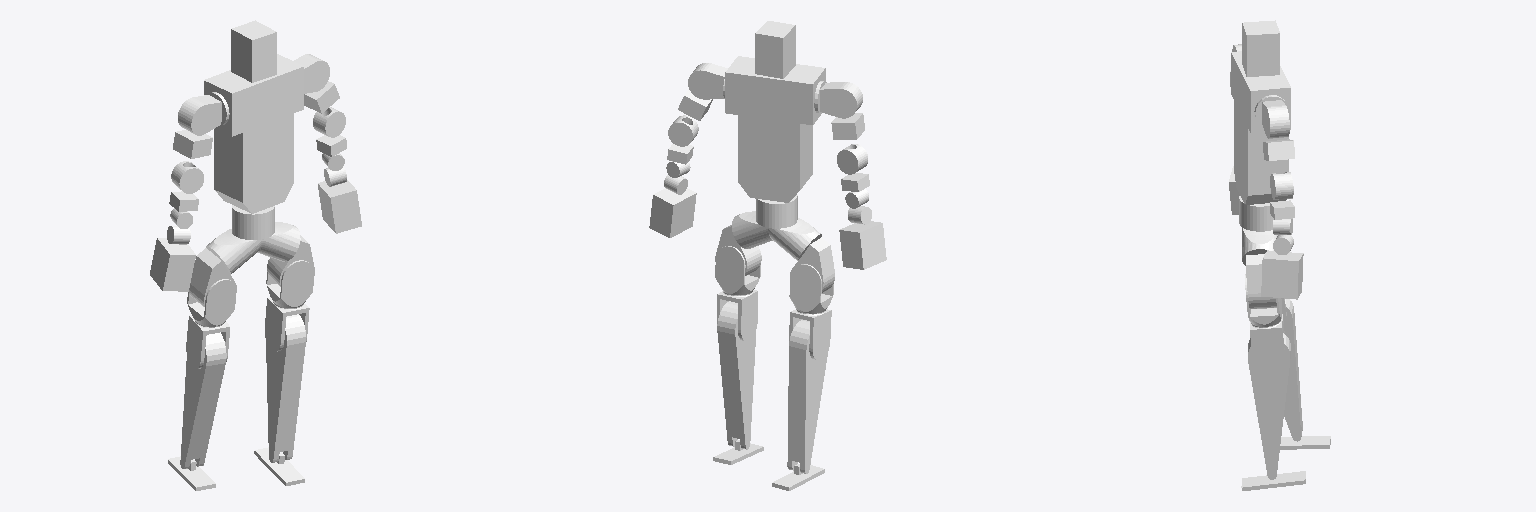
--- Render facts (derived) ---
3 views of the same robot in one strip: view 1: azimuth 30°, elevation 25°; view 2: azimuth 150°, elevation 25°; view 3: azimuth 270°, elevation 25° (orthographic).
Robot: simstl装配另存 — 31 links, 30 joints (26 continuous, 4 fixed); root link pelvis_link; default pose: every joint at zero.
Visible links, largest first — view 1: torso_Link, left_knee_Link, right_knee_Link, head_Link, pelvis_link, right_wrist_pitch_link, left_wrist_pitch_link, left_hip_roll_link, right_hip_roll_link, right_shoulder_pitch_Link, right_hip_pitch_link, waist_yaw_link (+10 smaller); view 2: torso_Link, right_knee_Link, left_knee_Link, pelvis_link, head_Link, right_wrist_pitch_link, left_wrist_pitch_link, right_hip_roll_link, left_hip_roll_link, right_shoulder_pitch_Link, right_hip_yaw_Link, left_shoulder_pitch_link (+9 smaller); view 3: torso_Link, left_knee_Link, head_Link, left_wrist_pitch_link, right_knee_Link, left_hip_yaw_link, left_hip_pitch_link, left_shoulder_pitch_link, waist_yaw_link, left_ankle_roll_link, pelvis_link, left_hip_roll_link (+3 smaller).
Boxes of the visible links, x1,y1,x2,y2 form: torso_Link: (204,54,303,213); left_knee_Link: (266,314,305,462); right_knee_Link: (180,332,226,468); head_Link: (231,20,276,82); pelvis_link: (206,222,300,274); right_wrist_pitch_link: (150,238,195,291); left_wrist_pitch_link: (318,180,361,233); left_hip_roll_link: (266,260,313,308); right_hip_roll_link: (187,279,236,327); right_shoulder_pitch_Link: (178,95,221,135); right_hip_pitch_link: (189,248,236,306); waist_yaw_link: (232,205,274,239); torso_Link: (723,56,826,202); right_knee_Link: (787,320,828,473); left_knee_Link: (717,301,755,449); pelvis_link: (732,211,821,260); head_Link: (755,21,795,78); right_wrist_pitch_link: (839,221,886,269); left_wrist_pitch_link: (649,188,696,237); right_hip_roll_link: (789,264,833,314); left_hip_roll_link: (715,246,760,295); right_shoulder_pitch_Link: (820,82,862,118); right_hip_yaw_Link: (789,309,831,360); left_shoulder_pitch_link: (688,63,727,99); torso_Link: (1231,51,1290,204); left_knee_Link: (1248,333,1290,479); head_Link: (1242,20,1279,76); left_wrist_pitch_link: (1261,250,1303,299); right_knee_Link: (1284,299,1302,441); left_hip_yaw_link: (1250,314,1284,372); left_hip_pitch_link: (1246,254,1276,308); left_shoulder_pitch_link: (1262,100,1289,138); waist_yaw_link: (1239,196,1273,231); left_ankle_roll_link: (1241,471,1305,490); pelvis_link: (1242,228,1277,265); left_hip_roll_link: (1245,274,1281,327).
Size in the robot's own frame: 0.798 by 0.3339 by 1.59 metres.
31 mesh visuals loaded from 31 distinct referenced files (31 binary STL).

robot.urdf — simstl装配另存:
<?xml version="1.0" encoding="utf-8"?>
<!-- This URDF was automatically created by SolidWorks to URDF Exporter! Originally created by Stephen Brawner ([email redacted]) 
     Commit Version: 1.6.0-4-g7f85cfe  Build Version: 1.6.7995.38578
     For more information, please see http://wiki.ros.org/sw_urdf_exporter -->
<robot
  name="simstl装配另存">
  <link
    name="pelvis_link">
    <inertial>
      <origin
        xyz="-3.13217732446242E-17 -7.0033346998907E-17 -0.0475407842849238"
        rpy="0 0 0" />
      <mass
        value="2.59612258544044" />
      <inertia
        ixx="0.00438862597142726"
        ixy="6.02047322668908E-08"
        ixz="1.42792133472184E-16"
        iyy="0.0187233240732958"
        iyz="2.87104161009405E-16"
        izz="0.0192780986166987" />
    </inertial>
    <visual>
      <origin
        xyz="0 0 0"
        rpy="0 0 0" />
      <geometry>
        <mesh
          filename="package://simstl装配另存/meshes/pelvis_link.STL" />
      </geometry>
      <material
        name="">
        <color
          rgba="1 1 1 1" />
      </material>
    </visual>
    <collision>
      <origin
        xyz="0 0 0"
        rpy="0 0 0" />
      <geometry>
        <mesh
          filename="package://simstl装配另存/meshes/pelvis_link.STL" />
      </geometry>
    </collision>
  </link>
  <link
    name="left_hip_pitch_link">
    <inertial>
      <origin
        xyz="-0.0155421053851232 -0.0591025316841065 -2.87096735274162E-16"
        rpy="0 0 0" />
      <mass
        value="1.48627427894323" />
      <inertia
        ixx="0.00409740084322351"
        ixy="-0.00028512426839898"
        ixz="9.48676900924816E-20"
        iyy="0.00234685691462312"
        iyz="3.93023287525995E-19"
        izz="0.00443778748127328" />
    </inertial>
    <visual>
      <origin
        xyz="0 0 0"
        rpy="0 0 0" />
      <geometry>
        <mesh
          filename="package://simstl装配另存/meshes/left_hip_pitch_link.STL" />
      </geometry>
      <material
        name="">
        <color
          rgba="1 1 1 1" />
      </material>
    </visual>
    <collision>
      <origin
        xyz="0 0 0"
        rpy="0 0 0" />
      <geometry>
        <mesh
          filename="package://simstl装配另存/meshes/left_hip_pitch_link.STL" />
      </geometry>
    </collision>
  </link>
  <joint
    name="0_left_hip_pitch_joint"
    type="continuous">
    <origin
      xyz="0.161396413151412 0 -0.0931822625792073"
      rpy="1.66022681549075 0.00230876585102084 -0.0515867968423578" />
    <parent
      link="pelvis_link" />
    <child
      link="left_hip_pitch_link" />
    <axis
      xyz="0.86602540378444 -0.499999999999997 0" />
  </joint>
  <link
    name="left_hip_roll_link">
    <inertial>
      <origin
        xyz="-2.34562343687239E-07 -0.0685868098115105 -1.34414325419357E-06"
        rpy="0 0 0" />
      <mass
        value="0.657908229146672" />
      <inertia
        ixx="0.00191614855769591"
        ixy="7.84961952204997E-09"
        ixz="-4.73133030434156E-09"
        iyy="0.00141956339015436"
        iyz="-2.11513213226652E-09"
        izz="0.00172254146453579" />
    </inertial>
    <visual>
      <origin
        xyz="0 0 0"
        rpy="0 0 0" />
      <geometry>
        <mesh
          filename="package://simstl装配另存/meshes/left_hip_roll_link.STL" />
      </geometry>
      <material
        name="">
        <color
          rgba="1 1 1 1" />
      </material>
    </visual>
    <collision>
      <origin
        xyz="0 0 0"
        rpy="0 0 0" />
      <geometry>
        <mesh
          filename="package://simstl装配另存/meshes/left_hip_roll_link.STL" />
      </geometry>
    </collision>
  </link>
  <joint
    name="0_left_hip_roll_joint"
    type="continuous">
    <origin
      xyz="-0.0187966701642662 -0.0791477374207923 0"
      rpy="0 0 -0.0314457539189733" />
    <parent
      link="left_hip_pitch_link" />
    <child
      link="left_hip_roll_link" />
    <axis
      xyz="0 0 1" />
  </joint>
  <link
    name="left_hip_yaw_link">
    <inertial>
      <origin
        xyz="-1.31838984174237E-15 -0.075044352149648 5.27355936696949E-16"
        rpy="0 0 0" />
      <mass
        value="0.558150874810084" />
      <inertia
        ixx="0.00212246981460302"
        ixy="5.55653613398821E-19"
        ixz="1.66018457661843E-19"
        iyy="0.00126395439228814"
        iyz="-3.2991933295555E-19"
        izz="0.00182294282321998" />
    </inertial>
    <visual>
      <origin
        xyz="0 0 0"
        rpy="0 0 0" />
      <geometry>
        <mesh
          filename="package://simstl装配另存/meshes/left_hip_yaw_link.STL" />
      </geometry>
      <material
        name="">
        <color
          rgba="1 1 1 1" />
      </material>
    </visual>
    <collision>
      <origin
        xyz="0 0 0"
        rpy="0 0 0" />
      <geometry>
        <mesh
          filename="package://simstl装配另存/meshes/left_hip_yaw_link.STL" />
      </geometry>
    </collision>
  </link>
  <joint
    name="0_left_hip_yaw_joint"
    type="continuous">
    <origin
      xyz="0 -0.102447512227952 0"
      rpy="0 -1.54131363589377 0" />
    <parent
      link="left_hip_roll_link" />
    <child
      link="left_hip_yaw_link" />
    <axis
      xyz="0 1 0" />
  </joint>
  <link
    name="left_knee_Link">
    <inertial>
      <origin
        xyz="-2.57432963834958E-15 -0.134657000959037 -4.44089209850063E-16"
        rpy="0 0 0" />
      <mass
        value="3.1244862763748" />
      <inertia
        ixx="0.0534639775774041"
        ixy="-1.51212321743838E-16"
        ixz="5.42101086242752E-18"
        iyy="0.00419786240262267"
        iyz="1.82581128154217E-17"
        izz="0.0550865051574955" />
    </inertial>
    <visual>
      <origin
        xyz="0 0 0"
        rpy="0 0 0" />
      <geometry>
        <mesh
          filename="package://simstl装配另存/meshes/left_knee_Link.STL" />
      </geometry>
      <material
        name="">
        <color
          rgba="1 1 1 1" />
      </material>
    </visual>
    <collision>
      <origin
        xyz="0 0 0"
        rpy="0 0 0" />
      <geometry>
        <mesh
          filename="package://simstl装配另存/meshes/left_knee_Link.STL" />
      </geometry>
    </collision>
  </link>
  <joint
    name="0_left_knee_joint"
    type="continuous">
    <origin
      xyz="0 -0.126252487772048 0"
      rpy="-3.14159265358979 0 -3.07386322886552" />
    <parent
      link="left_hip_yaw_link" />
    <child
      link="left_knee_Link" />
    <axis
      xyz="0 0 1" />
  </joint>
  <link
    name="left_ankle_pitch_Link">
    <inertial>
      <origin
        xyz="0 -0.00749999999999995 3.60822483003176E-16"
        rpy="0 0 0" />
      <mass
        value="0.012" />
      <inertia
        ixx="1.3E-06"
        ixy="-1.10511329837084E-21"
        ixz="1.27385814333166E-22"
        iyy="8E-07"
        iyz="2.06795153138257E-25"
        izz="1.3E-06" />
    </inertial>
    <visual>
      <origin
        xyz="0 0 0"
        rpy="0 0 0" />
      <geometry>
        <mesh
          filename="package://simstl装配另存/meshes/left_ankle_pitch_Link.STL" />
      </geometry>
      <material
        name="">
        <color
          rgba="1 1 1 1" />
      </material>
    </visual>
    <collision>
      <origin
        xyz="0 0 0"
        rpy="0 0 0" />
      <geometry>
        <mesh
          filename="package://simstl装配另存/meshes/left_ankle_pitch_Link.STL" />
      </geometry>
    </collision>
  </link>
  <joint
    name="0_left_ankle_pitch_joint"
    type="continuous">
    <origin
      xyz="0 -0.4335 0"
      rpy="-3.14159265358979 0 -3.02669614082178" />
    <parent
      link="left_knee_Link" />
    <child
      link="left_ankle_pitch_Link" />
    <axis
      xyz="0 0 1" />
  </joint>
  <link
    name="left_ankle_roll_link">
    <inertial>
      <origin
        xyz="-6.66133814775094E-16 2.08166817117217E-16 0.0219999999999999"
        rpy="0 0 0" />
      <mass
        value="0.2058" />
      <inertia
        ixx="0.000759676400000001"
        ixy="-3.70259277068536E-19"
        ixz="-1.27478458561772E-19"
        iyy="8.73964000000002E-05"
        iyz="2.15231071897318E-18"
        izz="0.000840350000000001" />
    </inertial>
    <visual>
      <origin
        xyz="0 0 0"
        rpy="0 0 0" />
      <geometry>
        <mesh
          filename="package://simstl装配另存/meshes/left_ankle_roll_link.STL" />
      </geometry>
      <material
        name="">
        <color
          rgba="1 1 1 1" />
      </material>
    </visual>
    <collision>
      <origin
        xyz="0 0 0"
        rpy="0 0 0" />
      <geometry>
        <mesh
          filename="package://simstl装配另存/meshes/left_ankle_roll_link.STL" />
      </geometry>
    </collision>
  </link>
  <joint
    name="0_left_ankle_roll_joint"
    type="continuous">
    <origin
      xyz="0 -0.0150000000000001 0"
      rpy="3.14159265358979 1.55763311900639 1.57079632679489" />
    <parent
      link="left_ankle_pitch_Link" />
    <child
      link="left_ankle_roll_link" />
    <axis
      xyz="0 1 0" />
  </joint>
  <link
    name="right_hip_pitch_link">
    <inertial>
      <origin
        xyz="0.0714846487295383 -0.109347451598905 7.80625564189563E-18"
        rpy="0 0 0" />
      <mass
        value="1.48627427894323" />
      <inertia
        ixx="0.00409740084322351"
        ixy="-0.00028512426839898"
        ixz="1.89735380184963E-19"
        iyy="0.00234685691462313"
        iyz="9.75781955236954E-19"
        izz="0.00443778748127328" />
    </inertial>
    <visual>
      <origin
        xyz="0 0 0"
        rpy="0 0 0" />
      <geometry>
        <mesh
          filename="package://simstl装配另存/meshes/right_hip_pitch_link.STL" />
      </geometry>
      <material
        name="">
        <color
          rgba="1 1 1 1" />
      </material>
    </visual>
    <collision>
      <origin
        xyz="0 0 0"
        rpy="0 0 0" />
      <geometry>
        <mesh
          filename="package://simstl装配另存/meshes/right_hip_pitch_link.STL" />
      </geometry>
    </collision>
  </link>
  <joint
    name="0_right_hip_pitch_joint"
    type="continuous">
    <origin
      xyz="-0.0743696590367509 0 -0.0429373426644086"
      rpy="1.45122683266207 0.00412712801290447 -3.07266899311436" />
    <parent
      link="pelvis_link" />
    <child
      link="right_hip_pitch_link" />
    <axis
      xyz="0.866025403784439 -0.5 0" />
  </joint>
  <link
    name="right_hip_roll_link">
    <inertial>
      <origin
        xyz="-2.24057862874272E-07 -0.0685868133192409 -1.31409841380714E-06"
        rpy="0 0 0" />
      <mass
        value="0.657907460062175" />
      <inertia
        ixx="0.00191614714457662"
        ixy="7.48729796247709E-09"
        ixz="-4.44906741748361E-09"
        iyy="0.00141956237301229"
        iyz="-2.85523736296182E-09"
        izz="0.00172254042503048" />
    </inertial>
    <visual>
      <origin
        xyz="0 0 0"
        rpy="0 0 0" />
      <geometry>
        <mesh
          filename="package://simstl装配另存/meshes/right_hip_roll_link.STL" />
      </geometry>
      <material
        name="">
        <color
          rgba="1 1 1 1" />
      </material>
    </visual>
    <collision>
      <origin
        xyz="0 0 0"
        rpy="0 0 0" />
      <geometry>
        <mesh
          filename="package://simstl装配另存/meshes/right_hip_roll_link.STL" />
      </geometry>
    </collision>
  </link>
  <joint
    name="0_right_hip_roll_joint"
    type="continuous">
    <origin
      xyz="0.0682300839503951 -0.129392657335591 0"
      rpy="-3.14159265358979 0 -3.12592071196651" />
    <parent
      link="right_hip_pitch_link" />
    <child
      link="right_hip_roll_link" />
    <axis
      xyz="0 0 1" />
  </joint>
  <link
    name="right_hip_yaw_Link">
    <inertial>
      <origin
        xyz="-5.41233724504764E-16 -0.0776217768635346 -1.60982338570648E-15"
        rpy="0 0 0" />
      <mass
        value="0.558150874810084" />
      <inertia
        ixx="0.00212246981460302"
        ixy="6.09863722023096E-19"
        ixz="6.50521303491303E-19"
        iyy="0.00126395439228814"
        iyz="8.63126573252132E-19"
        izz="0.00182294282321998" />
    </inertial>
    <visual>
      <origin
        xyz="0 0 0"
        rpy="0 0 0" />
      <geometry>
        <mesh
          filename="package://simstl装配另存/meshes/right_hip_yaw_Link.STL" />
      </geometry>
      <material
        name="">
        <color
          rgba="1 1 1 1" />
      </material>
    </visual>
    <collision>
      <origin
        xyz="0 0 0"
        rpy="0 0 0" />
      <geometry>
        <mesh
          filename="package://simstl装配另存/meshes/right_hip_yaw_Link.STL" />
      </geometry>
    </collision>
  </link>
  <joint
    name="0_right_hip_yaw_joint"
    type="continuous">
    <origin
      xyz="0 -0.0998700875140655 0"
      rpy="3.14159265358979 -1.42555167118887 -3.14159265358979" />
    <parent
      link="right_hip_roll_link" />
    <child
      link="right_hip_yaw_Link" />
    <axis
      xyz="0 1 0" />
  </joint>
  <link
    name="right_knee_Link">
    <inertial>
      <origin
        xyz="4.97546413895378E-06 -0.134635885197478 2.22044604925031E-15"
        rpy="0 0 0" />
      <mass
        value="3.1242416304843" />
      <inertia
        ixx="0.0534461721077923"
        ixy="4.25331801489698E-06"
        ixz="-8.67361737988404E-19"
        iyy="0.00419781224890989"
        iyz="-7.61042162449044E-17"
        izz="0.0550686862310545" />
    </inertial>
    <visual>
      <origin
        xyz="0 0 0"
        rpy="0 0 0" />
      <geometry>
        <mesh
          filename="package://simstl装配另存/meshes/right_knee_Link.STL" />
      </geometry>
      <material
        name="">
        <color
          rgba="1 1 1 1" />
      </material>
    </visual>
    <collision>
      <origin
        xyz="0 0 0"
        rpy="0 0 0" />
      <geometry>
        <mesh
          filename="package://simstl装配另存/meshes/right_knee_Link.STL" />
      </geometry>
    </collision>
  </link>
  <joint
    name="0_right_knee_joint"
    type="continuous">
    <origin
      xyz="0 -0.128829912485935 0"
      rpy="3.14159265358979 0 3.0669385411108" />
    <parent
      link="right_hip_yaw_Link" />
    <child
      link="right_knee_Link" />
    <axis
      xyz="0 0 1" />
  </joint>
  <link
    name="right_ankle_pitch_Link">
    <inertial>
      <origin
        xyz="4.04382777263734E-12 -0.00750000000054107 -1.66533453693773E-16"
        rpy="0 0 0" />
      <mass
        value="0.012" />
      <inertia
        ixx="1.3E-06"
        ixy="-9.92616735063633E-23"
        ixz="-1.58818677610181E-22"
        iyy="8.00000000000001E-07"
        iyz="-4.13383511123376E-22"
        izz="1.3E-06" />
    </inertial>
    <visual>
      <origin
        xyz="0 0 0"
        rpy="0 0 0" />
      <geometry>
        <mesh
          filename="package://simstl装配另存/meshes/right_ankle_pitch_Link.STL" />
      </geometry>
      <material
        name="">
        <color
          rgba="1 1 1 1" />
      </material>
    </visual>
    <collision>
      <origin
        xyz="0 0 0"
        rpy="0 0 0" />
      <geometry>
        <mesh
          filename="package://simstl装配另存/meshes/right_ankle_pitch_Link.STL" />
      </geometry>
    </collision>
  </link>
  <joint
    name="0_right_ankle_pitch_joint"
    type="continuous">
    <origin
      xyz="0 -0.433500000000003 0"
      rpy="3.14159265358979 0 3.00786762036151" />
    <parent
      link="right_knee_Link" />
    <child
      link="right_ankle_pitch_Link" />
    <axis
      xyz="0 0 1" />
  </joint>
  <link
    name="right_ankle_roll_Link">
    <inertial>
      <origin
        xyz="-1.13797860024079E-14 0.10309531204532 0.0220000000005403"
        rpy="0 0 0" />
      <mass
        value="0.2058" />
      <inertia
        ixx="0.000759676399999998"
        ixy="2.22346148654254E-19"
        ixz="1.30231315640349E-19"
        iyy="8.73963999999998E-05"
        iyz="-1.20024568625934E-18"
        izz="0.000840349999999998" />
    </inertial>
    <visual>
      <origin
        xyz="0 0 0"
        rpy="0 0 0" />
      <geometry>
        <mesh
          filename="package://simstl装配另存/meshes/right_ankle_roll_Link.STL" />
      </geometry>
      <material
        name="">
        <color
          rgba="1 1 1 1" />
      </material>
    </visual>
    <collision>
      <origin
        xyz="0 0 0"
        rpy="0 0 0" />
      <geometry>
        <mesh
          filename="package://simstl装配另存/meshes/right_ankle_roll_Link.STL" />
      </geometry>
    </collision>
  </link>
  <joint
    name="0_right_ankle_roll_joint"
    type="continuous">
    <origin
      xyz="-0.103095312041276 -0.0150000000000013 0"
      rpy="3.14159265358979 1.54968400377694 1.5707963267949" />
    <parent
      link="right_ankle_pitch_Link" />
    <child
      link="right_ankle_roll_Link" />
    <axis
      xyz="0 1 0" />
  </joint>
  <link
    name="waist_yaw_link">
    <inertial>
      <origin
        xyz="1.85718555524981E-18 -9.0439728048059E-19 0.045"
        rpy="0 0 0" />
      <mass
        value="1.34614103613669" />
      <inertia
        ixx="0.00251088956765396"
        ixy="-1.0842021724855E-19"
        ixz="7.35364985719662E-20"
        iyy="0.00251088956765396"
        iyz="3.89168615009538E-23"
        izz="0.00320448873652339" />
    </inertial>
    <visual>
      <origin
        xyz="0 0 0"
        rpy="0 0 0" />
      <geometry>
        <mesh
          filename="package://simstl装配另存/meshes/waist_yaw_link.STL" />
      </geometry>
      <material
        name="">
        <color
          rgba="1 1 1 1" />
      </material>
    </visual>
    <collision>
      <origin
        xyz="0 0 0"
        rpy="0 0 0" />
      <geometry>
        <mesh
          filename="package://simstl装配另存/meshes/waist_yaw_link.STL" />
      </geometry>
    </collision>
  </link>
  <joint
    name="waist_yaw_joint"
    type="continuous">
    <origin
      xyz="0 0 0"
      rpy="0 0 2.61746474058066" />
    <parent
      link="pelvis_link" />
    <child
      link="waist_yaw_link" />
    <axis
      xyz="0 0 1" />
  </joint>
  <link
    name="waist_roll_Link">
    <inertial>
      <origin
        xyz="-9.14816347633244E-18 0.00600000000000001 -2.02489287931573E-17"
        rpy="0 0 0" />
      <mass
        value="0.00904778684233861" />
      <inertia
        ixx="4.90691639749498E-06"
        ixy="3.26265223399926E-55"
        ixz="3.27563522570999E-22"
        iyy="4.90691639749498E-06"
        iyz="-4.19629427726875E-39"
        izz="1.62860163162095E-07" />
    </inertial>
    <visual>
      <origin
        xyz="0 0 0"
        rpy="0 0 0" />
      <geometry>
        <mesh
          filename="package://simstl装配另存/meshes/waist_roll_Link.STL" />
      </geometry>
      <material
        name="">
        <color
          rgba="1 1 1 1" />
      </material>
    </visual>
    <collision>
      <origin
        xyz="0 0 0"
        rpy="0 0 0" />
      <geometry>
        <mesh
          filename="package://simstl装配另存/meshes/waist_roll_Link.STL" />
      </geometry>
    </collision>
  </link>
  <joint
    name="waist_roll_joint"
    type="continuous">
    <origin
      xyz="0 0 0.09"
      rpy="1.5707963267949 0 -2.40842710613758" />
    <parent
      link="waist_yaw_link" />
    <child
      link="waist_roll_Link" />
    <axis
      xyz="0 1 0" />
  </joint>
  <link
    name="torso_Link">
    <inertial>
      <origin
        xyz="0.13511217162071 0.254421872284227 0.00415780310911415"
        rpy="0 0 0" />
      <mass
        value="15.0305076014071" />
      <inertia
        ixx="0.336979759774154"
        ixy="3.11594778375947E-17"
        ixz="6.93889390390723E-18"
        iyy="0.110155579394109"
        iyz="-6.29406711770686E-17"
        izz="0.27280010211887" />
    </inertial>
    <visual>
      <origin
        xyz="0 0 0"
        rpy="0 0 0" />
      <geometry>
        <mesh
          filename="package://simstl装配另存/meshes/torso_Link.STL" />
      </geometry>
      <material
        name="">
        <color
          rgba="1 1 1 1" />
      </material>
    </visual>
    <collision>
      <origin
        xyz="0 0 0"
        rpy="0 0 0" />
      <geometry>
        <mesh
          filename="package://simstl装配另存/meshes/torso_Link.STL" />
      </geometry>
    </collision>
  </link>
  <joint
    name="torso_joint"
    type="continuous">
    <origin
      xyz="0 0.00600000000000001 0.133401762598207"
      rpy="-0.478571446934751 1.57079631189374 -0.47857144693475" />
    <parent
      link="waist_roll_Link" />
    <child
      link="torso_Link" />
    <axis
      xyz="1 0 0" />
  </joint>
  <link
    name="head_Link">
    <inertial>
      <origin
        xyz="-1.30104260698261E-17 1.60461921527855E-17 0.075"
        rpy="0 0 0" />
      <mass
        value="1.65" />
      <inertia
        ixx="0.0047575"
        ixy="-3.25260651745651E-19"
        ixz="3.21420930934541E-19"
        iyy="0.00446875"
        iyz="-1.43960118926078E-19"
        izz="0.00303875" />
    </inertial>
    <visual>
      <origin
        xyz="0 0 0"
        rpy="0 0 0" />
      <geometry>
        <mesh
          filename="package://simstl装配另存/meshes/head_Link.STL" />
      </geometry>
      <material
        name="">
        <color
          rgba="1 1 1 1" />
      </material>
    </visual>
    <collision>
      <origin
        xyz="0 0 0"
        rpy="0 0 0" />
      <geometry>
        <mesh
          filename="package://simstl装配另存/meshes/head_Link.STL" />
      </geometry>
    </collision>
  </link>
  <joint
    name="head_joint"
    type="continuous">
    <origin
      xyz="0.13511217162071 0.454221618593478 0.0041578031091142"
      rpy="1.57079632679489 -1.50925701327379 -3.14159265358978" />
    <parent
      link="torso_Link" />
    <child
      link="head_Link" />
    <axis
      xyz="0 0 1" />
  </joint>
  <link
    name="right_shoulder_pitch_Link">
    <inertial>
      <origin
        xyz="-0.0571953620554074 0 -6.93889390390723E-18"
        rpy="0 0 0" />
      <mass
        value="0.756178654371521" />
      <inertia
        ixx="0.000818946394217298"
        ixy="-3.04931861011548E-20"
        ixz="1.35525271560688E-20"
        iyy="0.00117485700579858"
        iyz="3.3881317890172E-20"
        izz="0.0014613275975626" />
    </inertial>
    <visual>
      <origin
        xyz="0 0 0"
        rpy="0 0 0" />
      <geometry>
        <mesh
          filename="package://simstl装配另存/meshes/right_shoulder_pitch_Link.STL" />
      </geometry>
      <material
        name="">
        <color
          rgba="1 1 1 1" />
      </material>
    </visual>
    <collision>
      <origin
        xyz="0 0 0"
        rpy="0 0 0" />
      <geometry>
        <mesh
          filename="package://simstl装配另存/meshes/right_shoulder_pitch_Link.STL" />
      </geometry>
    </collision>
  </link>
  <joint
    name="1_right_shoulder_pitch_joint"
    type="continuous">
    <origin
      xyz="0.13511217162071 0.378721618593478 -0.167740511837185"
      rpy="-1.34546852580314 -1.57079631189374 1.39402794418769" />
    <parent
      link="torso_Link" />
    <child
      link="right_shoulder_pitch_Link" />
    <axis
      xyz="1 0 0" />
  </joint>
  <link
    name="right_shoulder_roll_link">
    <inertial>
      <origin
        xyz="-5.55111512312578E-17 -0.0930000000000001 0.0601590944459596"
        rpy="0 0 0" />
      <mass
        value="0.44352" />
      <inertia
        ixx="0.000419274240000001"
        ixy="1.0545560193316E-19"
        ixz="-2.03287907341032E-20"
        iyy="0.000547008"
        iyz="3.55753837846806E-20"
        izz="0.000393845760000001" />
    </inertial>
    <visual>
      <origin
        xyz="0 0 0"
        rpy="0 0 0" />
      <geometry>
        <mesh
          filename="package://simstl装配另存/meshes/right_shoulder_roll_link.STL" />
      </geometry>
      <material
        name="">
        <color
          rgba="1 1 1 1" />
      </material>
    </visual>
    <collision>
      <origin
        xyz="0 0 0"
        rpy="0 0 0" />
      <geometry>
        <mesh
          filename="package://simstl装配另存/meshes/right_shoulder_roll_link.STL" />
      </geometry>
    </collision>
  </link>
  <joint
    name="1_right_shoulder_roll_joint"
    type="continuous">
    <origin
      xyz="-0.0714016850537004 0 -0.0601590944459594"
      rpy="0 0 -0.141037189240337" />
    <parent
      link="right_shoulder_pitch_Link" />
    <child
      link="right_shoulder_roll_link" />
    <axis
      xyz="0 0 1" />
  </joint>
  <link
    name="right_shoulder_yaw_link">
    <inertial>
      <origin
        xyz="4.85101792069287E-10 -0.0608138131568556 -4.3638629332321E-07"
        rpy="0 0 0" />
      <mass
        value="0.254258436547984" />
      <inertia
        ixx="0.000205073524747574"
        ixy="1.16012251376049E-10"
        ixz="2.90674320211986E-12"
        iyy="0.000260586055040214"
        iyz="6.98509429957568E-14"
        izz="0.000273860607436206" />
    </inertial>
    <visual>
      <origin
        xyz="0 0 0"
        rpy="0 0 0" />
      <geometry>
        <mesh
          filename="package://simstl装配另存/meshes/right_shoulder_yaw_link.STL" />
      </geometry>
      <material
        name="">
        <color
          rgba="1 1 1 1" />
      </material>
    </visual>
    <collision>
      <origin
        xyz="0 0 0"
        rpy="0 0 0" />
      <geometry>
        <mesh
          filename="package://simstl装配另存/meshes/right_shoulder_yaw_link.STL" />
      </geometry>
    </collision>
  </link>
  <joint
    name="1_right_shoulder_yaw_joint"
    type="fixed">
    <origin
      xyz="0 -0.149186185823977 0.0601590944459594"
      rpy="0 -0.283970830651577 0" />
    <parent
      link="right_shoulder_roll_link" />
    <child
      link="right_shoulder_yaw_link" />
    <axis
      xyz="0 1 0" />
  </joint>
  <link
    name="right_elbow_link">
    <inertial>
      <origin
        xyz="-5.55111512312578E-17 -0.0825 -6.93889390390723E-18"
        rpy="0 0 0" />
      <mass
        value="0.1836" />
      <inertia
        ixx="9.52271999999999E-05"
        ixy="7.53065229668276E-20"
        ixz="-4.2351647362715E-22"
        iyy="0.000140457825"
        iyz="1.56701095242046E-20"
        izz="9.4190625E-05" />
    </inertial>
    <visual>
      <origin
        xyz="0 0 0"
        rpy="0 0 0" />
      <geometry>
        <mesh
          filename="package://simstl装配另存/meshes/right_elbow_link.STL" />
      </geometry>
      <material
        name="">
        <color
          rgba="1 1 1 1" />
      </material>
    </visual>
    <collision>
      <origin
        xyz="0 0 0"
        rpy="0 0 0" />
      <geometry>
        <mesh
          filename="package://simstl装配另存/meshes/right_elbow_link.STL" />
      </geometry>
    </collision>
  </link>
  <joint
    name="1_right_elbow_joint"
    type="continuous">
    <origin
      xyz="0 -0.0608138141760233 0"
      rpy="0 0 0" />
    <parent
      link="right_shoulder_yaw_link" />
    <child
      link="right_elbow_link" />
    <axis
      xyz="0 0 1" />
  </joint>
  <link
    name="right_wrist_roll_link">
    <inertial>
      <origin
        xyz="0 -0.04049436594513 1.38777878078145E-17"
        rpy="0 0 0" />
      <mass
        value="0.145450242074064" />
      <inertia
        ixx="6.89161428227173E-05"
        ixy="-1.27054942088145E-21"
        ixz="-7.6232965252887E-21"
        iyy="6.89161428227173E-05"
        iyz="8.470329472543E-22"
        izz="5.90709795623292E-05" />
    </inertial>
    <visual>
      <origin
        xyz="0 0 0"
        rpy="0 0 0" />
      <geometry>
        <mesh
          filename="package://simstl装配另存/meshes/right_wrist_roll_link.STL" />
      </geometry>
      <material
        name="">
        <color
          rgba="1 1 1 1" />
      </material>
    </visual>
    <collision>
      <origin
        xyz="0 0 0"
        rpy="0 0 0" />
      <geometry>
        <mesh
          filename="package://simstl装配另存/meshes/right_wrist_roll_link.STL" />
      </geometry>
    </collision>
  </link>
  <joint
    name="right_wrist_roll_joint"
    type="continuous">
    <origin
      xyz="0 -0.09750563405487 0"
      rpy="0 -0.0890412963919442 0" />
    <parent
      link="right_elbow_link" />
    <child
      link="right_wrist_roll_link" />
    <axis
      xyz="0 1 0" />
  </joint>
  <link
    name="right_wrist_yaw_link">
    <inertial>
      <origin
        xyz="4.16333634234434E-17 -0.06 1.11022302462516E-16"
        rpy="0 0 0" />
      <mass
        value="0.161163703129156" />
      <inertia
        ixx="7.98969058262792E-05"
        ixy="0"
        ixz="1.6940658945086E-21"
        iyy="7.98969058262792E-05"
        iyz="-8.15269211732264E-21"
        izz="7.25236664081203E-05" />
    </inertial>
    <visual>
      <origin
        xyz="0 0 0"
        rpy="0 0 0" />
      <geometry>
        <mesh
          filename="package://simstl装配另存/meshes/right_wrist_yaw_link.STL" />
      </geometry>
      <material
        name="">
        <color
          rgba="1 1 1 1" />
      </material>
    </visual>
    <collision>
      <origin
        xyz="0 0 0"
        rpy="0 0 0" />
      <geometry>
        <mesh
          filename="package://simstl装配另存/meshes/right_wrist_yaw_link.STL" />
      </geometry>
    </collision>
  </link>
  <joint
    name="right_wrist_yaw_joint"
    type="fixed">
    <origin
      xyz="0 -0.04049436594513 0"
      rpy="-0.0238050261850699 -1.57079631189374 0" />
    <parent
      link="right_wrist_roll_link" />
    <child
      link="right_wrist_yaw_link" />
    <axis
      xyz="0 0 0" />
  </joint>
  <link
    name="right_wrist_pitch_link">
    <inertial>
      <origin
        xyz="0.0606743013125314 -0.105 -4.16333634234434E-17"
        rpy="0 0 0" />
      <mass
        value="1.404" />
      <inertia
        ixx="0.00366210000000001"
        ixy="7.11507675693612E-19"
        ixz="-4.06575814682064E-19"
        iyy="0.0026325"
        iyz="5.14996031930615E-19"
        izz="0.002925" />
    </inertial>
    <visual>
      <origin
        xyz="0 0 0"
        rpy="0 0 0" />
      <geometry>
        <mesh
          filename="package://simstl装配另存/meshes/right_wrist_pitch_link.STL" />
      </geometry>
      <material
        name="">
        <color
          rgba="1 1 1 1" />
      </material>
    </visual>
    <collision>
      <origin
        xyz="0 0 0"
        rpy="0 0 0" />
      <geometry>
        <mesh
          filename="package://simstl装配另存/meshes/right_wrist_pitch_link.STL" />
      </geometry>
    </collision>
  </link>
  <joint
    name="right_wrist_pitch_joint"
    type="continuous">
    <origin
      xyz="0 -0.06 0.0606743013125311"
      rpy="-0.46061271695283 1.57079630572147 -0.521246951491958" />
    <parent
      link="right_wrist_yaw_link" />
    <child
      link="right_wrist_pitch_link" />
    <axis
      xyz="1 0 0" />
  </joint>
  <link
    name="left_shoulder_pitch_link">
    <inertial>
      <origin
        xyz="-0.0571953620554074 1.11022302462516E-16 1.38777878078145E-17"
        rpy="0 0 0" />
      <mass
        value="0.756178654371521" />
      <inertia
        ixx="0.000818946394217297"
        ixy="2.08370105024558E-19"
        ixz="-1.35525271560688E-20"
        iyy="0.00117485700579858"
        iyz="1.62630325872826E-19"
        izz="0.0014613275975626" />
    </inertial>
    <visual>
      <origin
        xyz="0 0 0"
        rpy="0 0 0" />
      <geometry>
        <mesh
          filename="package://simstl装配另存/meshes/left_shoulder_pitch_link.STL" />
      </geometry>
      <material
        name="">
        <color
          rgba="1 1 1 1" />
      </material>
    </visual>
    <collision>
      <origin
        xyz="0 0 0"
        rpy="0 0 0" />
      <geometry>
        <mesh
          filename="package://simstl装配另存/meshes/left_shoulder_pitch_link.STL" />
      </geometry>
    </collision>
  </link>
  <joint
    name="1_left_shoulder_pitch_joint"
    type="continuous">
    <origin
      xyz="0.13511217162071 0.378721618593478 0.176056118055414"
      rpy="1.74546852580314 1.57079631189374 -1.39402794418769" />
    <parent
      link="torso_Link" />
    <child
      link="left_shoulder_pitch_link" />
    <axis
      xyz="1 0 0" />
  </joint>
  <link
    name="left_shoulder_roll_link">
    <inertial>
      <origin
        xyz="5.55111512312578E-17 -0.093 0.0598521578408988"
        rpy="0 0 0" />
      <mass
        value="0.44352" />
      <inertia
        ixx="0.00041927424"
        ixy="1.78723951870657E-19"
        ixz="-4.06575814682064E-20"
        iyy="0.000547007999999999"
        iyz="6.7762635780344E-20"
        izz="0.00039384576" />
    </inertial>
    <visual>
      <origin
        xyz="0 0 0"
        rpy="0 0 0" />
      <geometry>
        <mesh
          filename="package://simstl装配另存/meshes/left_shoulder_roll_link.STL" />
      </geometry>
      <material
        name="">
        <color
          rgba="1 1 1 1" />
      </material>
    </visual>
    <collision>
      <origin
        xyz="0 0 0"
        rpy="0 0 0" />
      <geometry>
        <mesh
          filename="package://simstl装配另存/meshes/left_shoulder_roll_link.STL" />
      </geometry>
    </collision>
  </link>
  <joint
    name="1_left_shoulder_roll_joint"
    type="continuous">
    <origin
      xyz="-0.0714016850537005 0 -0.0598521578408988"
      rpy="0 0 -2.75570606328591" />
    <parent
      link="left_shoulder_pitch_link" />
    <child
      link="left_shoulder_roll_link" />
    <axis
      xyz="0 0 1" />
  </joint>
  <link
    name="left_shoulder_yaw_link">
    <inertial>
      <origin
        xyz="7.41615435728704E-10 -0.0869999999999999 -4.36420293889461E-07"
        rpy="0 0 0" />
      <mass
        value="0.254258436472472" />
      <inertia
        ixx="0.000205073524658416"
        ixy="1.15994370127567E-10"
        ixz="2.8348872999507E-12"
        iyy="0.000260586055033639"
        iyz="2.03287907341032E-20"
        izz="0.000273860607433959" />
    </inertial>
    <visual>
      <origin
        xyz="0 0 0"
        rpy="0 0 0" />
      <geometry>
        <mesh
          filename="package://simstl装配另存/meshes/left_shoulder_yaw_link.STL" />
      </geometry>
      <material
        name="">
        <color
          rgba="1 1 1 1" />
      </material>
    </visual>
    <collision>
      <origin
        xyz="0 0 0"
        rpy="0 0 0" />
      <geometry>
        <mesh
          filename="package://simstl装配另存/meshes/left_shoulder_yaw_link.STL" />
      </geometry>
    </collision>
  </link>
  <joint
    name="left_shoulder_yaw_joint"
    type="fixed">
    <origin
      xyz="0 -0.123 0.0598521578408988"
      rpy="0 0 0" />
    <parent
      link="left_shoulder_roll_link" />
    <child
      link="left_shoulder_yaw_link" />
    <axis
      xyz="0 0 0" />
  </joint>
  <link
    name="left_elbow_link">
    <inertial>
      <origin
        xyz="-2.22044604925031E-16 -0.0825 0.0467403381649757"
        rpy="0 0 0" />
      <mass
        value="0.1836" />
      <inertia
        ixx="9.52272000000001E-05"
        ixy="7.81387893842092E-20"
        ixz="3.3881317890172E-21"
        iyy="0.000140457825"
        iyz="-1.01643953670516E-20"
        izz="9.41906250000001E-05" />
    </inertial>
    <visual>
      <origin
        xyz="0 0 0"
        rpy="0 0 0" />
      <geometry>
        <mesh
          filename="package://simstl装配另存/meshes/left_elbow_link.STL" />
      </geometry>
      <material
        name="">
        <color
          rgba="1 1 1 1" />
      </material>
    </visual>
    <collision>
      <origin
        xyz="0 0 0"
        rpy="0 0 0" />
      <geometry>
        <mesh
          filename="package://simstl装配另存/meshes/left_elbow_link.STL" />
      </geometry>
    </collision>
  </link>
  <joint
    name="1_left_elbow_joint"
    type="continuous">
    <origin
      xyz="0 -0.0869999999999999 -0.0467403381649755"
      rpy="0 0 -0.262517066204179" />
    <parent
      link="left_shoulder_yaw_link" />
    <child
      link="left_elbow_link" />
    <axis
      xyz="0 0 1" />
  </joint>
  <link
    name="left_wrist_roll_link">
    <inertial>
      <origin
        xyz="0 -0.0350763360926024 0"
        rpy="0 0 0" />
      <mass
        value="0.145450242074064" />
      <inertia
        ixx="6.89161428227173E-05"
        ixy="1.48230765769503E-21"
        ixz="-1.94817577868489E-20"
        iyy="6.89161428227173E-05"
        iyz="5.50571415715295E-21"
        izz="5.90709795623291E-05" />
    </inertial>
    <visual>
      <origin
        xyz="0 0 0"
        rpy="0 0 0" />
      <geometry>
        <mesh
          filename="package://simstl装配另存/meshes/left_wrist_roll_link.STL" />
      </geometry>
      <material
        name="">
        <color
          rgba="1 1 1 1" />
      </material>
    </visual>
    <collision>
      <origin
        xyz="0 0 0"
        rpy="0 0 0" />
      <geometry>
        <mesh
          filename="package://simstl装配另存/meshes/left_wrist_roll_link.STL" />
      </geometry>
    </collision>
  </link>
  <joint
    name="left_wrist_roll_joint"
    type="continuous">
    <origin
      xyz="0 -0.102923663907398 0.0467403381649757"
      rpy="0 -0.374630384932382 0" />
    <parent
      link="left_elbow_link" />
    <child
      link="left_wrist_roll_link" />
    <axis
      xyz="0 1 0" />
  </joint>
  <link
    name="left_wrist_yaw_link">
    <inertial>
      <origin
        xyz="0 -0.06 0"
        rpy="0 0 0" />
      <mass
        value="0.161163703129156" />
      <inertia
        ixx="7.98969058262793E-05"
        ixy="-8.470329472543E-22"
        ixz="1.01643953670516E-20"
        iyy="7.98969058262793E-05"
        iyz="-1.78935710107471E-20"
        izz="7.25236664081204E-05" />
    </inertial>
    <visual>
      <origin
        xyz="0 0 0"
        rpy="0 0 0" />
      <geometry>
        <mesh
          filename="package://simstl装配另存/meshes/left_wrist_yaw_link.STL" />
      </geometry>
      <material
        name="">
        <color
          rgba="1 1 1 1" />
      </material>
    </visual>
    <collision>
      <origin
        xyz="0 0 0"
        rpy="0 0 0" />
      <geometry>
        <mesh
          filename="package://simstl装配另存/meshes/left_wrist_yaw_link.STL" />
      </geometry>
    </collision>
  </link>
  <joint
    name="left_wrist_yaw_joint"
    type="fixed">
    <origin
      xyz="0 -0.0350763360926024 0"
      rpy="0.0238050261850699 -1.57079631189374 0" />
    <parent
      link="left_wrist_roll_link" />
    <child
      link="left_wrist_yaw_link" />
    <axis
      xyz="0 0 0" />
  </joint>
  <link
    name="left_wrist_pitch_link">
    <inertial>
      <origin
        xyz="-0.077430816903333 -0.105 8.32667268468867E-17"
        rpy="0 0 0" />
      <mass
        value="1.404" />
      <inertia
        ixx="0.0036621"
        ixy="-2.14807555423691E-18"
        ixz="0"
        iyy="0.0026325"
        iyz="7.9959910220806E-19"
        izz="0.002925" />
    </inertial>
    <visual>
      <origin
        xyz="0 0 0"
        rpy="0 0 0" />
      <geometry>
        <mesh
          filename="package://simstl装配另存/meshes/left_wrist_pitch_link.STL" />
      </geometry>
      <material
        name="">
        <color
          rgba="1 1 1 1" />
      </material>
    </visual>
    <collision>
      <origin
        xyz="0 0 0"
        rpy="0 0 0" />
      <geometry>
        <mesh
          filename="package://simstl装配另存/meshes/left_wrist_pitch_link.STL" />
      </geometry>
    </collision>
  </link>
  <joint
    name="left_wrist_pitch_joint"
    type="continuous">
    <origin
      xyz="0 -0.0600000000000001 -0.0774308169033325"
      rpy="0.46061271695283 1.57079630572147 0.521246951491958" />
    <parent
      link="left_wrist_yaw_link" />
    <child
      link="left_wrist_pitch_link" />
    <axis
      xyz="1 0 0" />
  </joint>
</robot>
